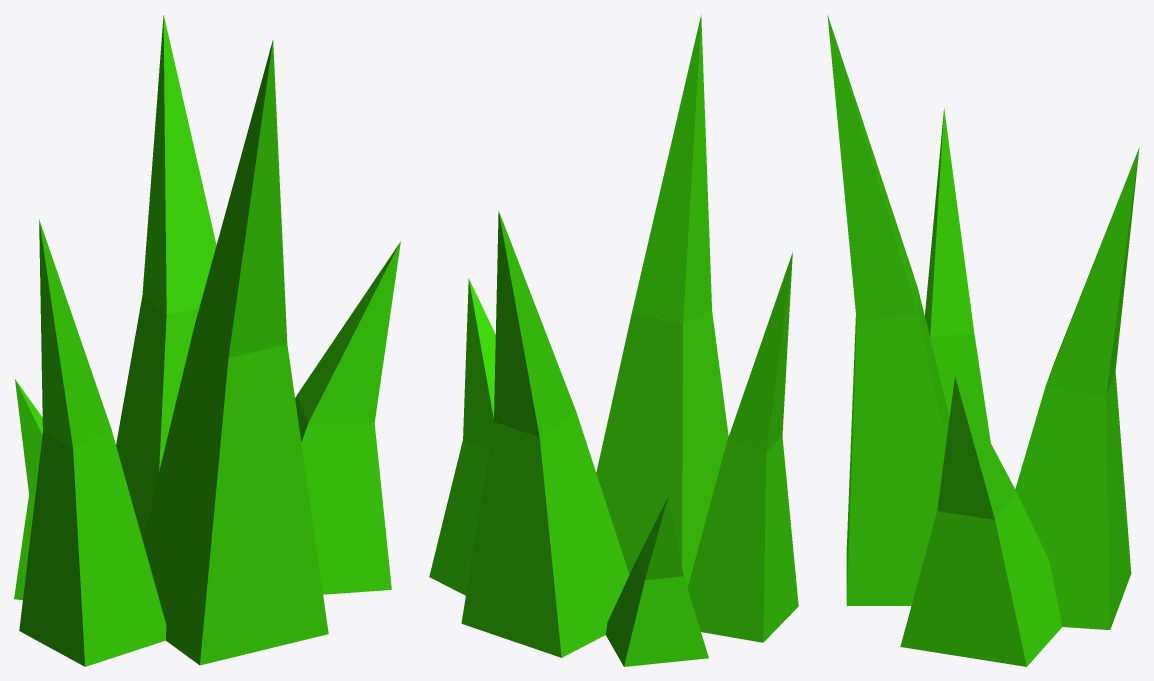
The model's file is grassV2.glb.
3 renders of one model, left to right at view 1: azimuth 30°, elevation 25°; view 2: azimuth 150°, elevation 25°; view 3: azimuth 270°, elevation 25°, orthographic. The views are drawn at different scales.
Parts seen in each view (by area): view 1: Plane, Plane.001, Plane.002, Plane.004, Plane.003; view 2: Plane.002, Plane, Plane.001, Plane.003, Plane.004; view 3: Plane, Plane.002, Plane.004, Plane.001.
Part boxes in pixels (x1=…): Plane: x1=142, y1=40, x2=328, y2=665; Plane.001: x1=19, y1=219, x2=166, y2=666; Plane.002: x1=116, y1=15, x2=216, y2=539; Plane.004: x1=295, y1=241, x2=400, y2=594; Plane.003: x1=14, y1=379, x2=42, y2=600; Plane.002: x1=461, y1=211, x2=629, y2=657; Plane: x1=596, y1=15, x2=728, y2=587; Plane.001: x1=687, y1=252, x2=798, y2=642; Plane.003: x1=605, y1=497, x2=708, y2=666; Plane.004: x1=429, y1=278, x2=495, y2=595; Plane: x1=827, y1=15, x2=949, y2=605; Plane.002: x1=1015, y1=147, x2=1139, y2=629; Plane.004: x1=900, y1=376, x2=1062, y2=666; Plane.001: x1=925, y1=108, x2=990, y2=442.
Bounding box in the file's own units: 1.15 × 1.81 × 0.9126.
